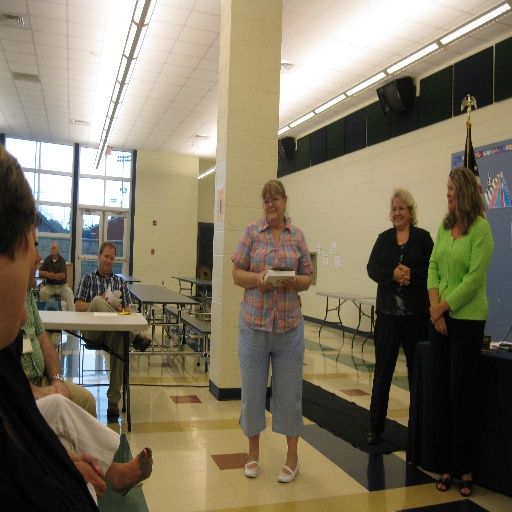hand: (72, 460, 106, 501), (71, 455, 106, 479), (393, 261, 411, 290), (255, 269, 274, 293), (50, 379, 70, 399), (32, 384, 56, 400), (279, 275, 298, 295), (426, 301, 443, 323), (397, 263, 411, 288), (432, 316, 448, 336), (100, 292, 112, 305), (114, 304, 124, 314), (47, 271, 56, 281)
